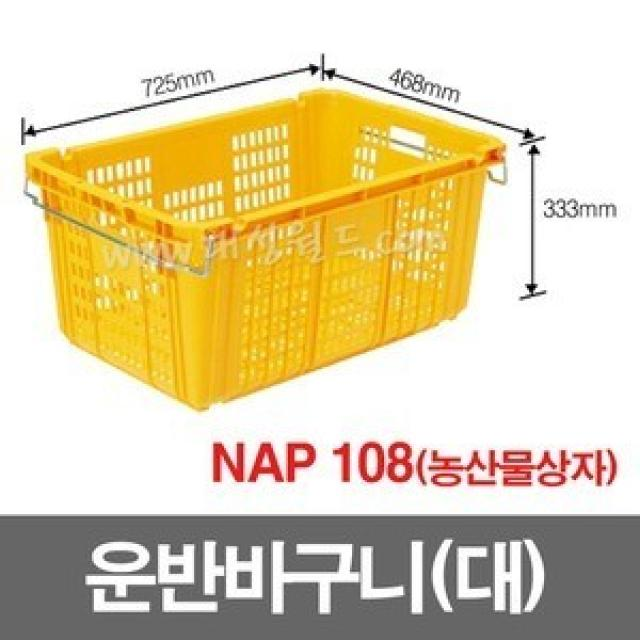basket: (19, 64, 537, 429)
